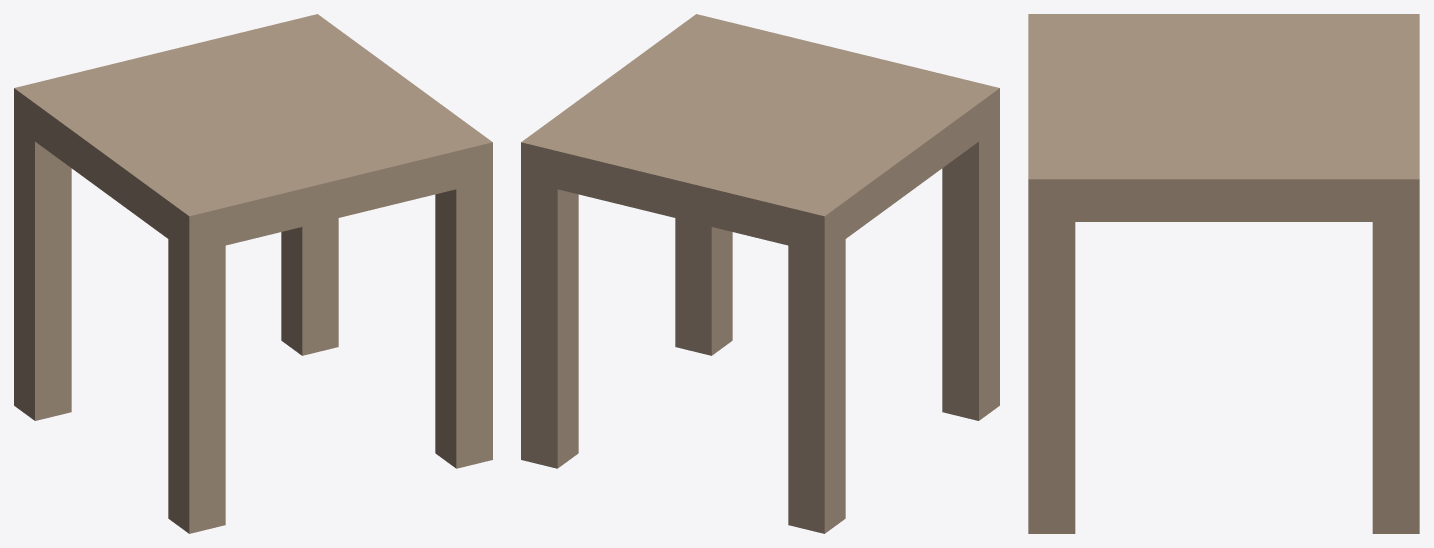
The model's file is desk.glb.
3 renders of one model, left to right at view 1: azimuth 30°, elevation 25°; view 2: azimuth 150°, elevation 25°; view 3: azimuth 270°, elevation 25°, orthographic. The views are drawn at different scales.
Size of the model in its own units: 1 by 1 by 1.
